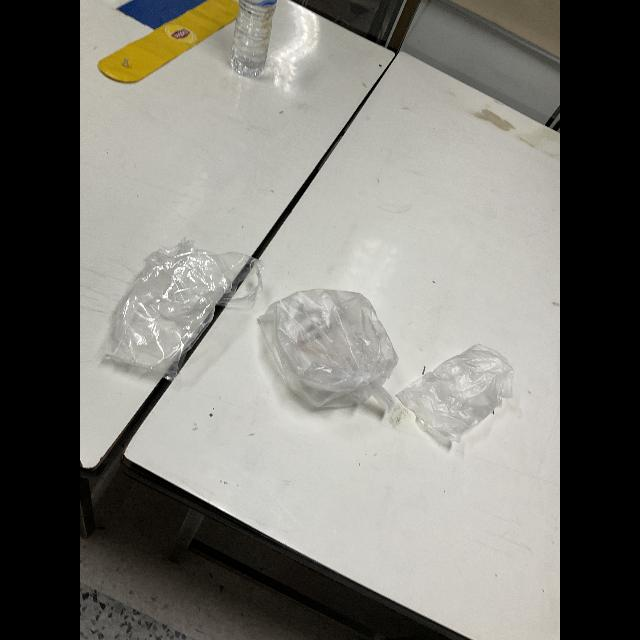plastic_bag: (94, 235, 260, 385), (251, 286, 397, 422)
scrap_plastic: (401, 330, 523, 458)
